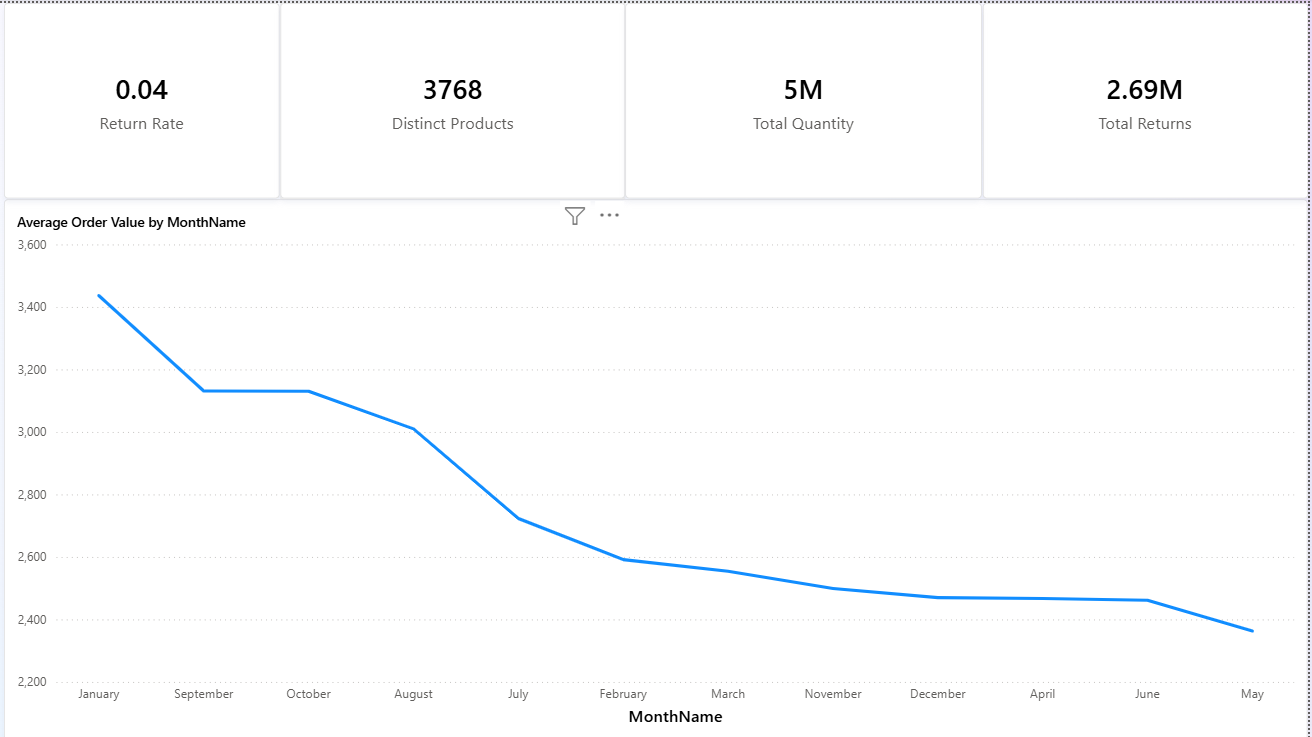

The page's visual inventory and layout, read from the dashboard file:
{"tool":"powerbi","page":{"name":"Page 3","canvas":[1280,720],"ordinal":2},"visuals":[{"type":"lineChart","fields":{"Category":["DimDate.MonthName"],"Y":["CustomerInfo.Average Order Value"]},"box":[4.8,191.4,1275.5,529.2],"z":0},{"type":"card","fields":{"Values":["CustomerInfo.Return Rate"]},"box":[4.8,0,269.9,191.2],"z":1},{"type":"card","fields":{"Values":["CustomerInfo.Total Returns"]},"box":[962.3,0,318.1,191.2],"z":2},{"type":"card","fields":{"Values":["CustomerInfo.Distinct Products"]},"box":[275,0,337.8,191.4],"z":3},{"type":"card","fields":{"Values":["CustomerInfo.Total Quantity"]},"box":[612.8,0,349,191.4],"z":4}]}

Visuals, with their boxes in screenshot pixels (x1, y1, x2, y2), scaled from the page's 1280x720 canvas onto the 1312x737 screenshot:
lineChart - DimDate.MonthName x CustomerInfo.Average Order Value: bbox=[5, 196, 1311, 736]
card - CustomerInfo.Return Rate: bbox=[5, 0, 282, 196]
card - CustomerInfo.Total Returns: bbox=[986, 0, 1311, 196]
card - CustomerInfo.Distinct Products: bbox=[282, 0, 628, 196]
card - CustomerInfo.Total Quantity: bbox=[628, 0, 986, 196]
